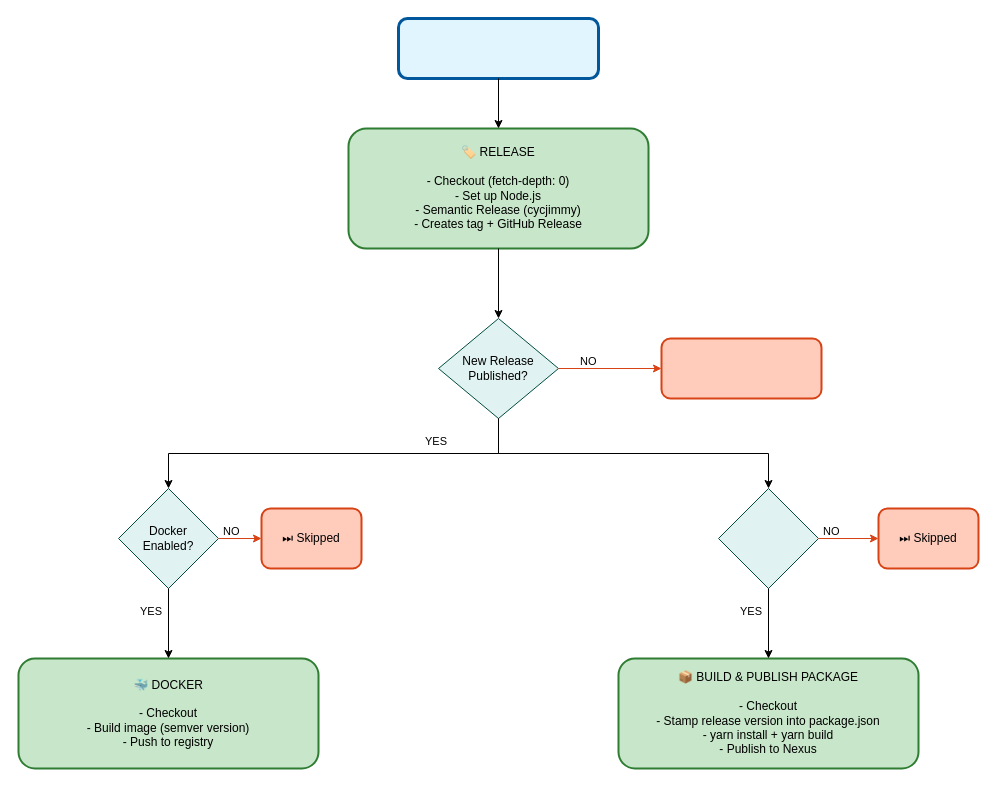
Image size: 996x787. Some labels were removed from this diagram. Here are the shapes that lost their labels. From the top down, the centre of each, then its label:
At pixel 498 48: "🚀 Workflow Triggered".
At pixel 741 368: "⏭ All Skipped (no new version)".
At pixel 768 538: "Publish Enabled?".
